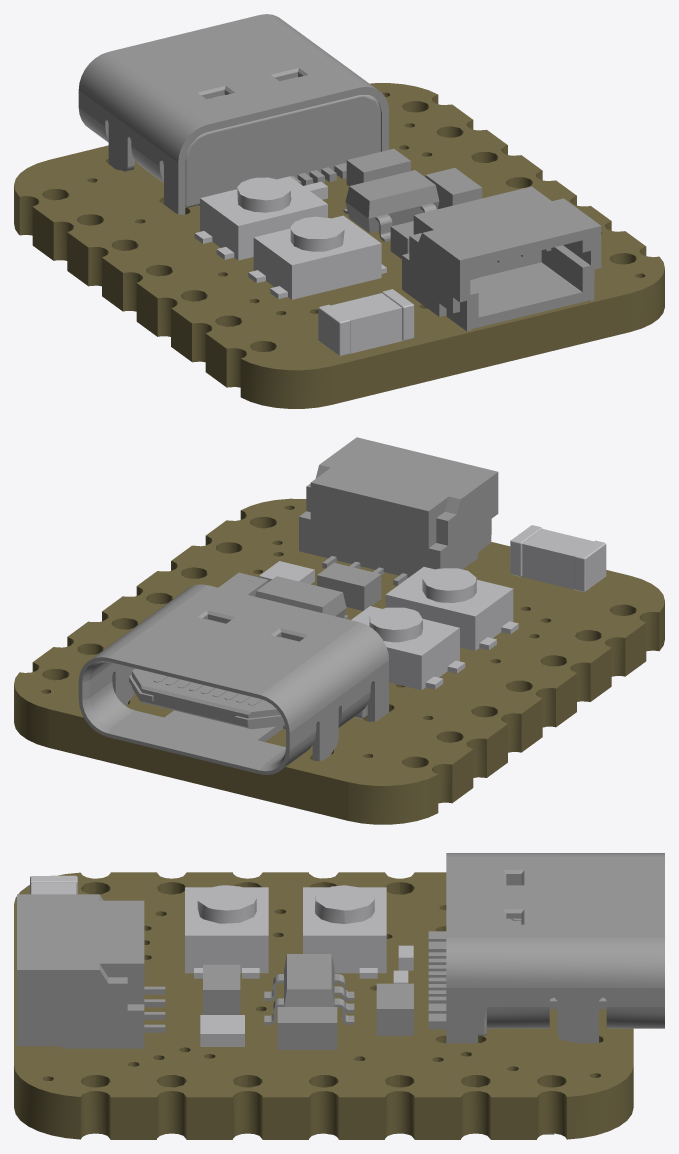
Rendered from ada-5405.glb.
3 renders of one model, top to bottom at view 1: azimuth 30°, elevation 25°; view 2: azimuth 150°, elevation 25°; view 3: azimuth 270°, elevation 25°, orthographic. The views are drawn at different scales.
Visible parts, largest first — view 1: 0.16666666666666666_0.16666666666666666_0.08333333333333333_, 0.3333333333333333_0.3333333333333333_0.3333333333333333_0, 0.5833333333333334_0.5833333333333334_0.5833333333333334_0.8; view 2: 0.16666666666666666_0.16666666666666666_0.08333333333333333_, 0.3333333333333333_0.3333333333333333_0.3333333333333333_0, 0.5833333333333334_0.5833333333333334_0.5833333333333334_0.8; view 3: 0.16666666666666666_0.16666666666666666_0.08333333333333333_, 0.3333333333333333_0.3333333333333333_0.3333333333333333_0, 0.5833333333333334_0.5833333333333334_0.5833333333333334_0.8.
Boxes of the visible parts, x1,y1,x2,y2 form: 0.16666666666666666_0.16666666666666666_0.08333333333333333_: [14, 83, 664, 408]; 0.3333333333333333_0.3333333333333333_0.3333333333333333_0: [78, 14, 601, 331]; 0.5833333333333334_0.5833333333333334_0.5833333333333334_0.8: [194, 176, 414, 356]; 0.16666666666666666_0.16666666666666666_0.08333333333333333_: [14, 498, 664, 824]; 0.3333333333333333_0.3333333333333333_0.3333333333333333_0: [78, 437, 498, 774]; 0.5833333333333334_0.5833333333333334_0.5833333333333334_0.8: [259, 525, 606, 690]; 0.16666666666666666_0.16666666666666666_0.08333333333333333_: [14, 872, 633, 1139]; 0.3333333333333333_0.3333333333333333_0.3333333333333333_0: [17, 853, 664, 1134]; 0.5833333333333334_0.5833333333333334_0.5833333333333334_0.8: [30, 875, 413, 1046].
Bounding box in the file's own units: 1.78 × 0.5893 × 2.17.
